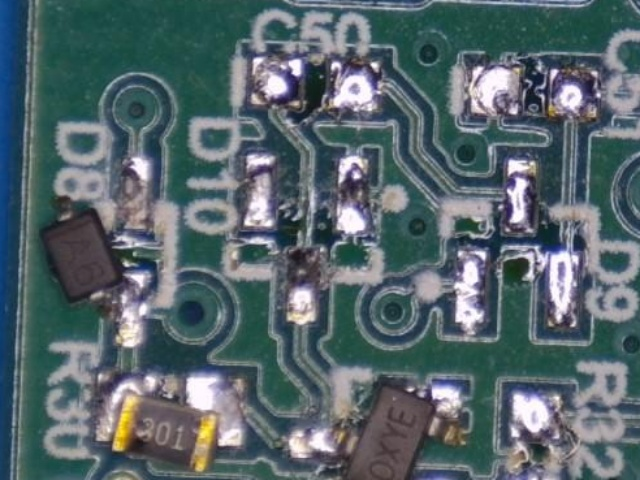pcb_defect: (39, 195, 149, 349), (289, 383, 463, 480), (96, 371, 245, 474)
